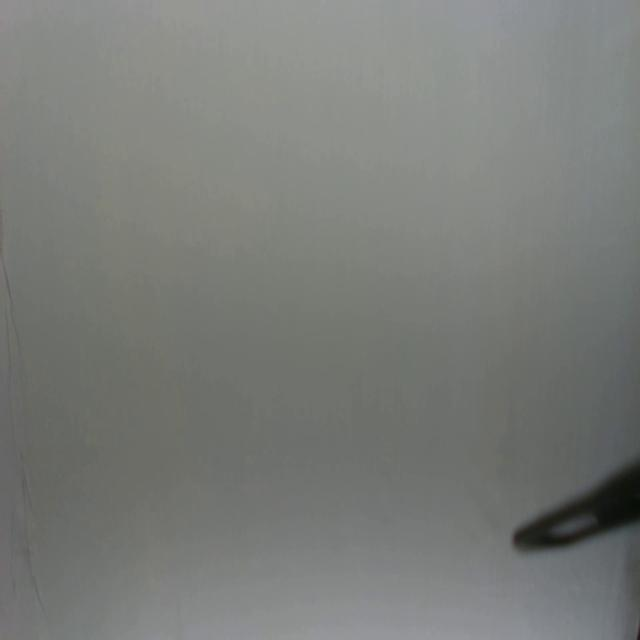crease: (0, 230, 47, 619)
